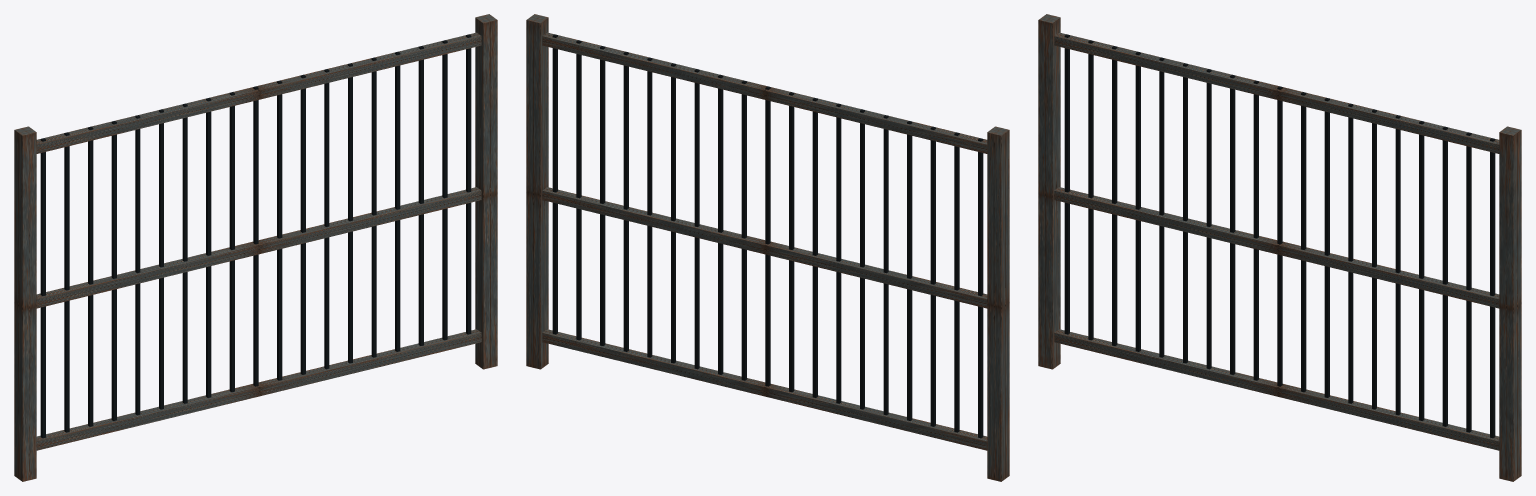
The model's file is FencePanel.obj.
3 views of the same model, side by side, from view 1: azimuth 30°, elevation 25°; view 2: azimuth 150°, elevation 25°; view 3: azimuth 330°, elevation 25° (orthographic).
Visible parts, largest first — view 1: FencePanel; view 2: FencePanel; view 3: FencePanel.
Boxes of the visible parts, x1,y1,x2,y2 form: FencePanel: (14, 14, 497, 481); FencePanel: (526, 14, 1009, 481); FencePanel: (1038, 14, 1521, 481).
Bounding box in the file's own units: 4.02 × 2.8 × 0.12.
Materials: 2 (1 with a texture image).
